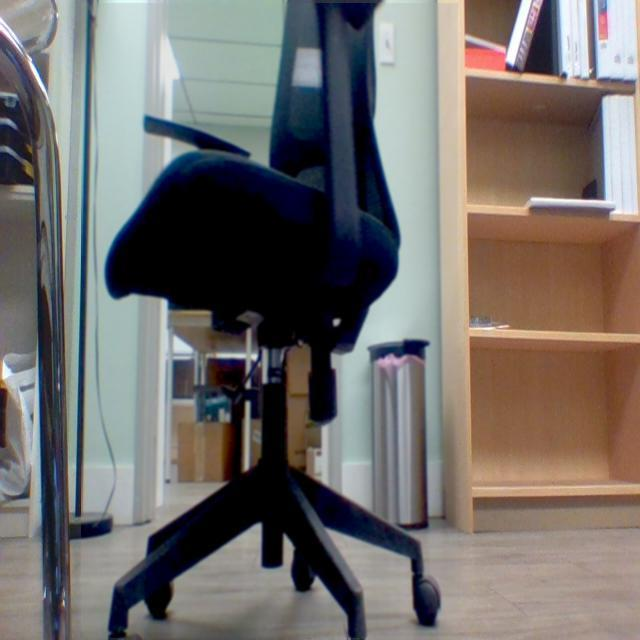chair: (105, 0, 447, 640)
